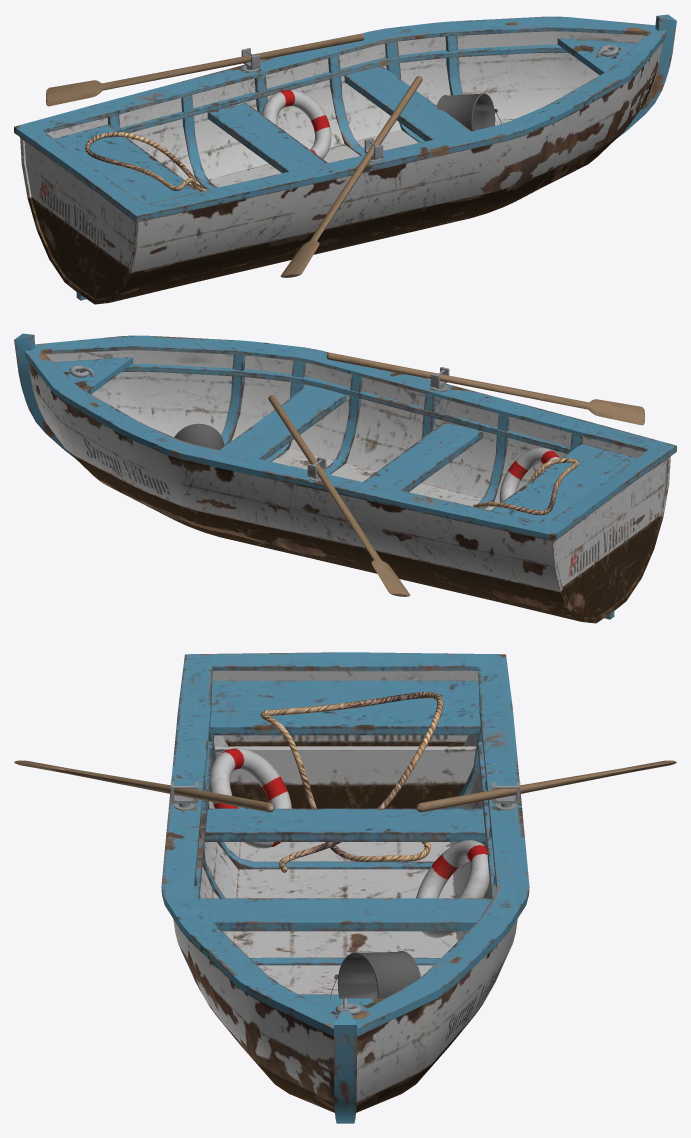
File: boat.glb
3 renders of one model, top to bottom at view 1: azimuth 30°, elevation 25°; view 2: azimuth 150°, elevation 25°; view 3: azimuth 270°, elevation 25°, orthographic. The views are drawn at different scales.
Visible parts, largest first — view 1: Boat_Front_LP_UV_Map_Boat_0, Circle_LP_Torus_0, Bucket_LP_Bucket_0; view 2: Boat_Front_LP_UV_Map_Boat_0, Circle_LP_Torus_0, Bucket_LP_Bucket_0; view 3: Boat_Front_LP_UV_Map_Boat_0, Circle_LP_Torus_0, Bucket_LP_Bucket_0.
Boxes of the visible parts, box(x1,y1,x2,y2) form: Boat_Front_LP_UV_Map_Boat_0: box(14, 14, 676, 304); Circle_LP_Torus_0: box(261, 90, 331, 158); Bucket_LP_Bucket_0: box(437, 93, 501, 131); Boat_Front_LP_UV_Map_Boat_0: box(14, 333, 676, 623); Circle_LP_Torus_0: box(499, 447, 559, 502); Bucket_LP_Bucket_0: box(174, 423, 224, 450); Boat_Front_LP_UV_Map_Boat_0: box(14, 652, 676, 1123); Circle_LP_Torus_0: box(209, 748, 489, 937); Bucket_LP_Bucket_0: box(330, 951, 420, 998).
Bounding box in the file's own units: 5.63 × 1.51 × 4.13.
3 materials, 3 textured.
